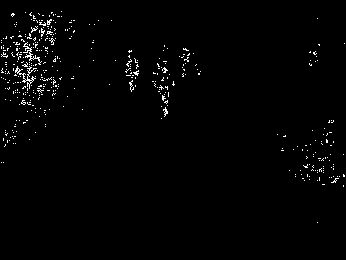person: (153, 58, 176, 121)
